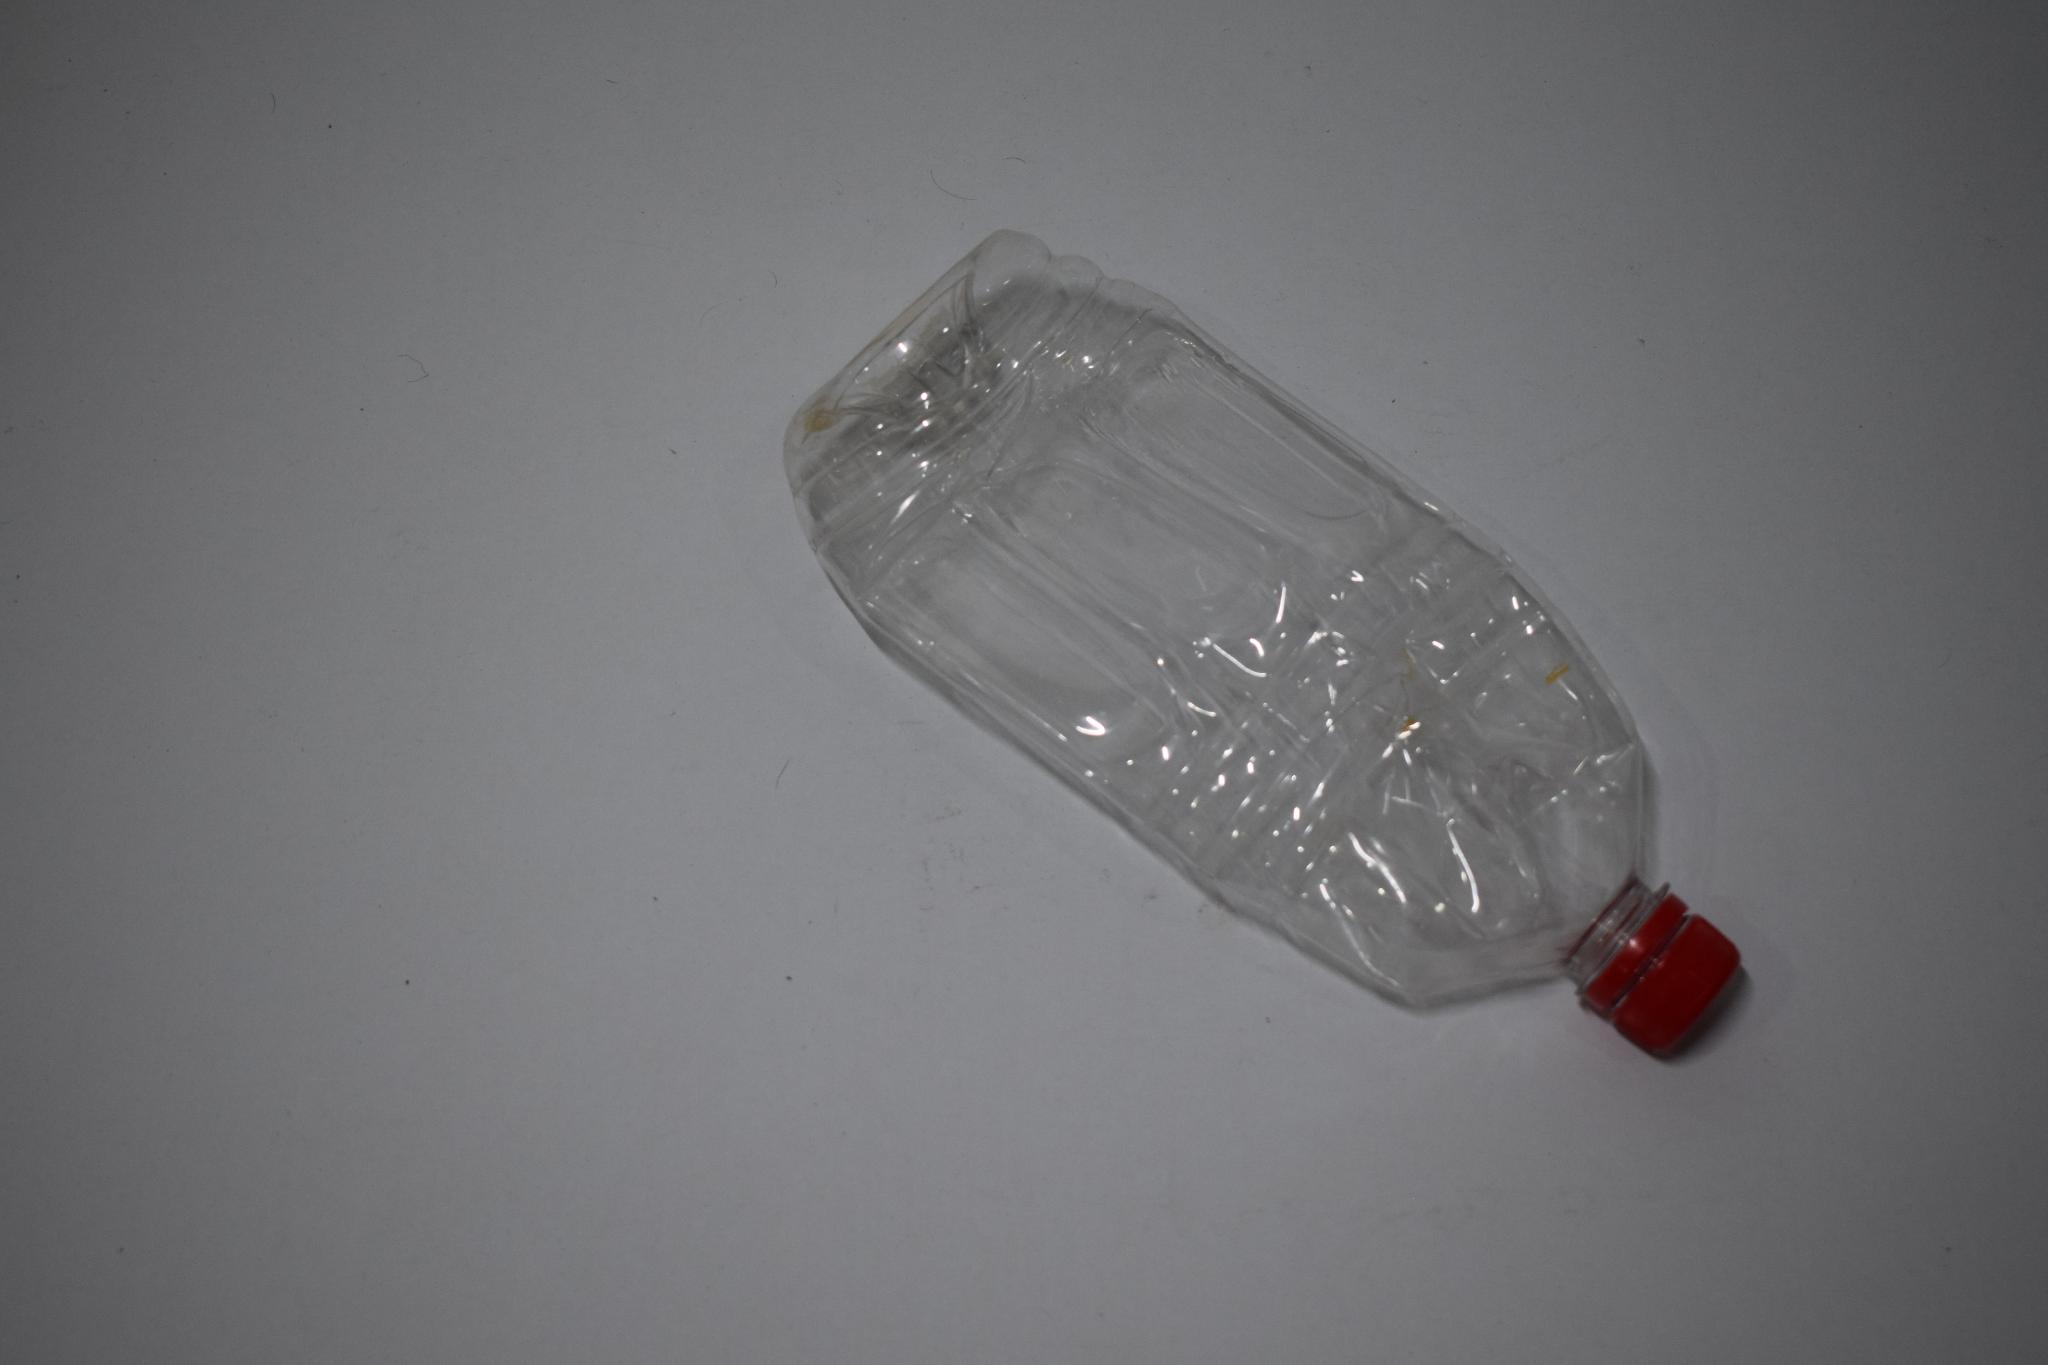bottle: (775, 213, 1754, 1074)
